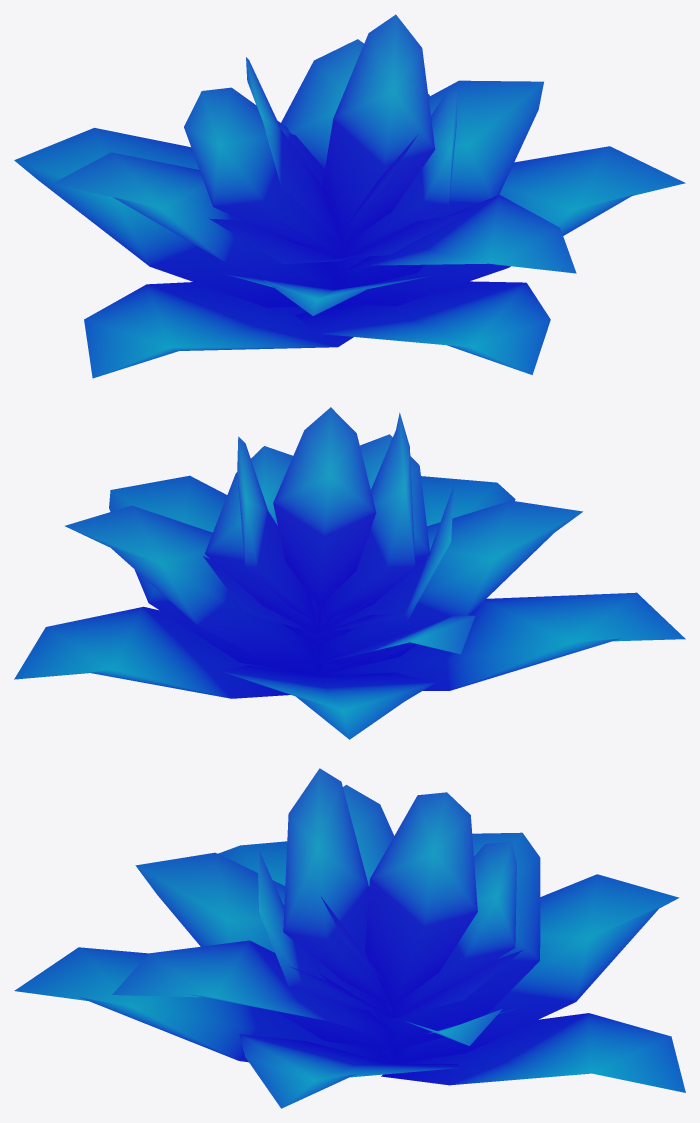
File: SM_Env_Flower_03.gltf
3 views of the same model, one above another, from view 1: azimuth 30°, elevation 25°; view 2: azimuth 150°, elevation 25°; view 3: azimuth 270°, elevation 25° (orthographic). The views are drawn at different scales.
Parts seen in each view (by area): view 1: SM_Env_Flower_03_LOD0; view 2: SM_Env_Flower_03_LOD0; view 3: SM_Env_Flower_03_LOD0.
Boxes of the visible parts, x1,y1,x2,y2 form: SM_Env_Flower_03_LOD0: [14, 14, 685, 378]; SM_Env_Flower_03_LOD0: [14, 407, 685, 739]; SM_Env_Flower_03_LOD0: [14, 768, 685, 1108].
Size of the model in its own units: 0.6675 by 0.2875 by 0.6475.
